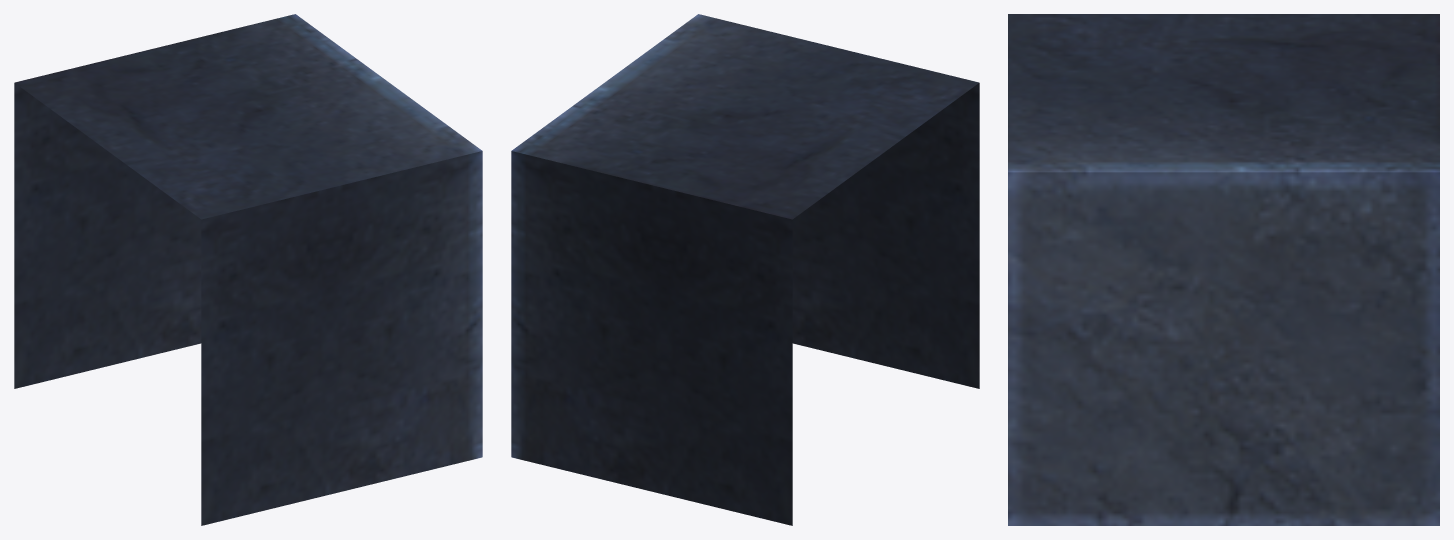
File: FB_MoFangHuanJing_Zhuanqiang01.FBX
3 renders of one model, left to right at view 1: azimuth 30°, elevation 25°; view 2: azimuth 150°, elevation 25°; view 3: azimuth 270°, elevation 25°, orthographic. The views are drawn at different scales.
Parts seen in each view (by area): view 1: Object05; view 2: Object05; view 3: Object05.
Boxes of the visible parts, <box> form: Object05: <box>14,14,482,525</box>; Object05: <box>511,14,979,525</box>; Object05: <box>1008,14,1439,525</box>.
Size of the model in its own units: 1.76 by 1.83 by 2.02.
